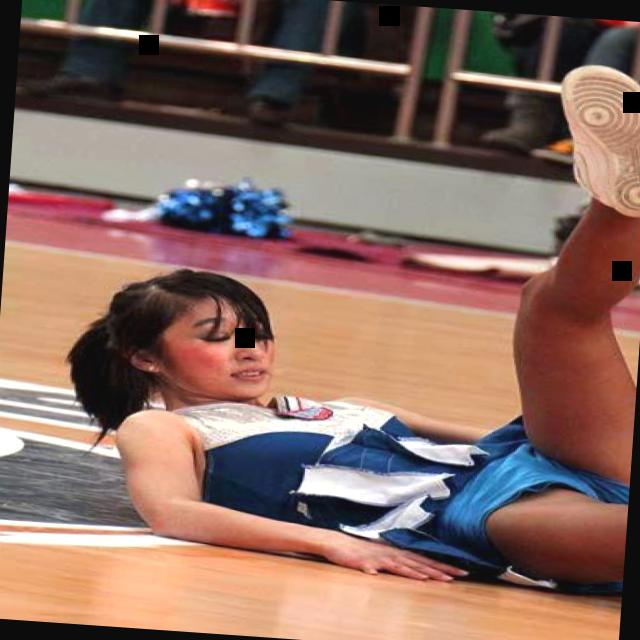Fall-Detected: (73, 67, 640, 548)
